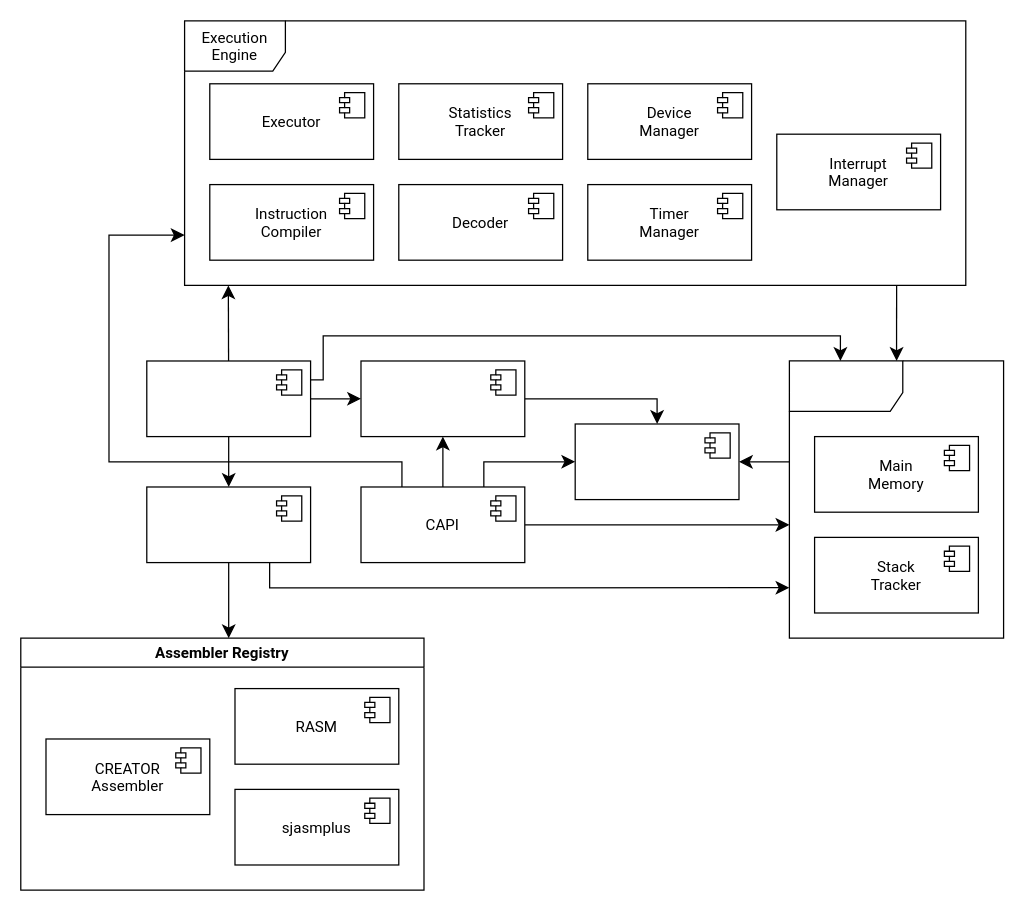
Image size: 1024x911. Some labels were removed from this diagram. The centre of each missing label's shape, as x and y in pixels:
"Architecture Processor" belongs at point (228, 398).
"Assembler" belongs at point (228, 524).
"Memory Management" belongs at point (896, 499).
"Register Manager" belongs at point (442, 398).
"Sentinel" belongs at point (656, 461).
